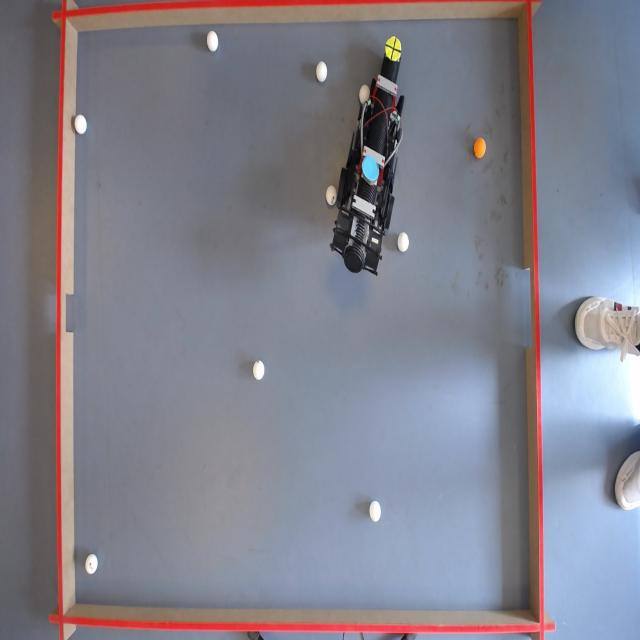orange: (474, 138, 488, 159)
robot: (325, 42, 410, 284)
robot-front: (385, 34, 402, 64)
robot-rear: (361, 156, 379, 184)
white: (74, 113, 88, 136), (368, 500, 382, 522), (86, 554, 100, 576), (207, 31, 220, 52), (252, 360, 265, 381), (316, 62, 328, 82), (324, 184, 336, 204), (398, 234, 409, 254)
